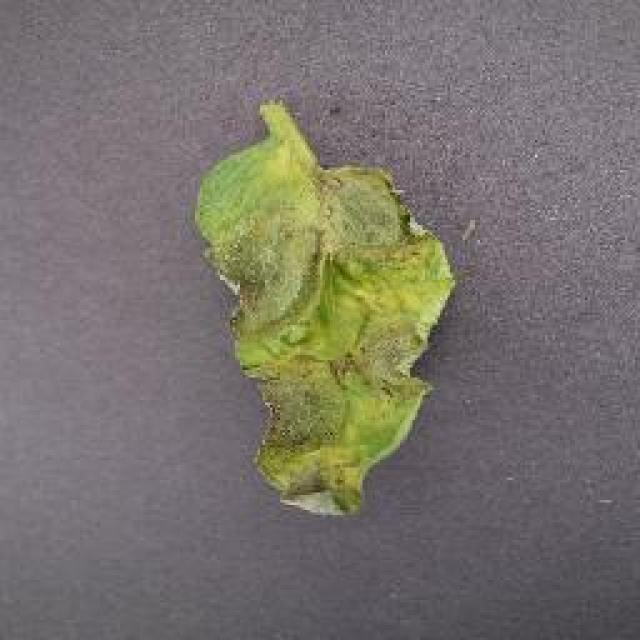Tomato Late Blight: (225, 176, 397, 536)
